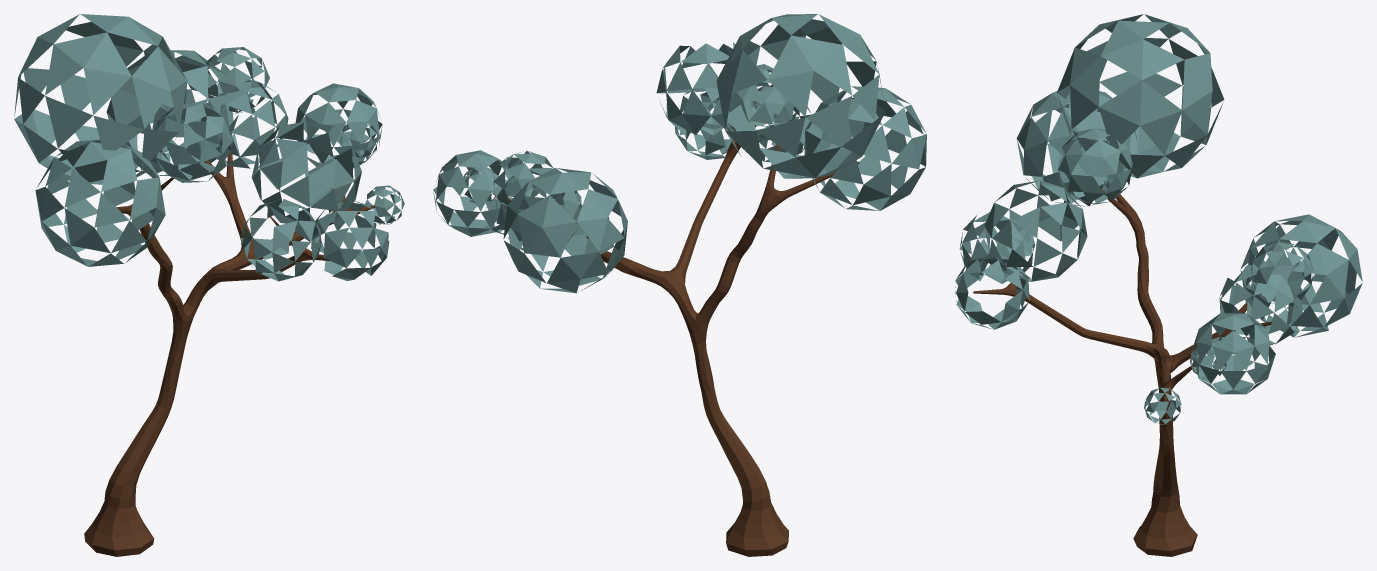
The model's file is Tree1.fbx.
3 renders of one model, left to right at view 1: azimuth 30°, elevation 25°; view 2: azimuth 150°, elevation 25°; view 3: azimuth 270°, elevation 25°, orthographic. The views are drawn at different scales.
Visible parts, largest first — view 1: jupiper; view 2: jupiper; view 3: jupiper.
Part boxes in pixels (<box>): jupiper: <box>14,14,404,556</box>; jupiper: <box>433,14,926,556</box>; jupiper: <box>955,14,1362,556</box>.
Size of the model in its own units: 723 by 903 by 655.
